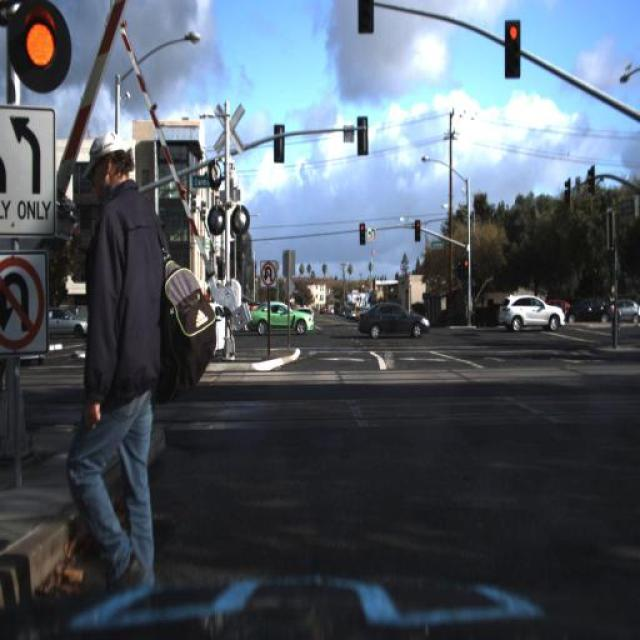car: (490, 289, 566, 335), (354, 299, 430, 340), (242, 300, 316, 334), (556, 293, 622, 329), (529, 296, 575, 330)
trafficLight: (61, 128, 210, 631), (52, 114, 166, 625)
trafficLight-Green: (14, 2, 67, 84), (357, 1, 375, 35)
trafficLight-RedLeft: (503, 20, 522, 78), (412, 213, 423, 246), (462, 252, 471, 284), (358, 219, 367, 246), (414, 216, 420, 242)
